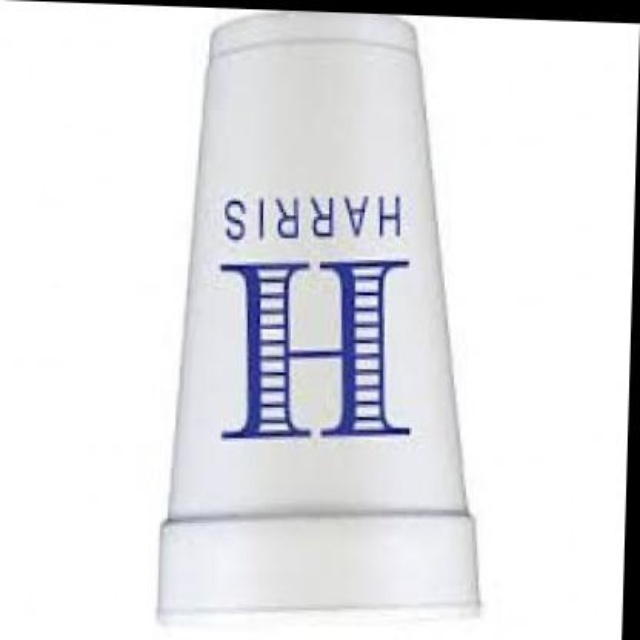trash: (160, 14, 475, 612)
